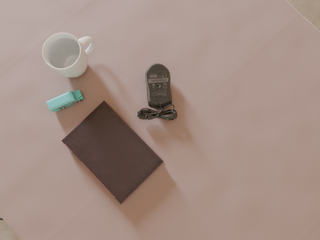book: (62, 101, 163, 204)
cup: (42, 33, 95, 77)
mouse: (137, 64, 177, 120)
toy_car: (47, 90, 84, 112)
